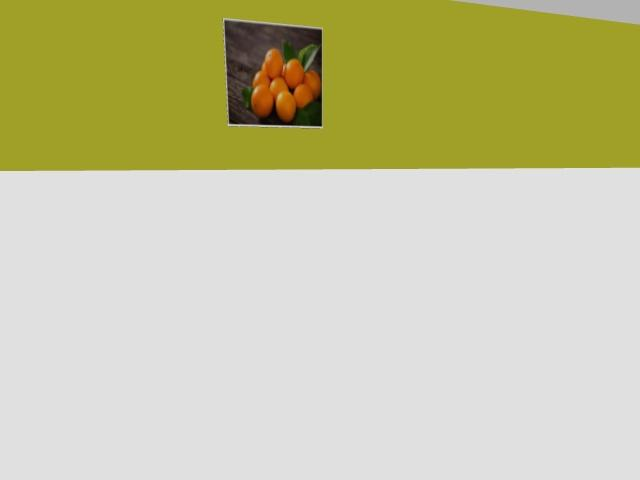orange: (251, 84, 273, 117), (276, 89, 295, 122), (284, 59, 303, 88), (264, 48, 282, 78), (293, 83, 313, 108), (303, 70, 320, 99), (270, 77, 287, 98), (252, 71, 270, 87), (282, 63, 286, 77), (261, 62, 266, 73)
